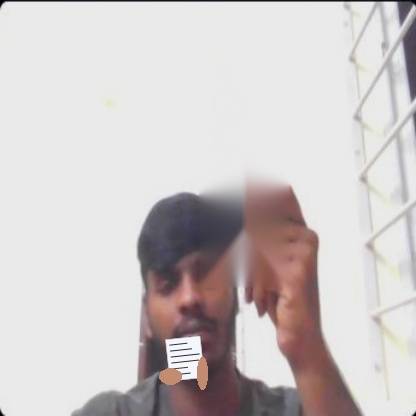cheat_chit: (165, 335, 205, 381)
